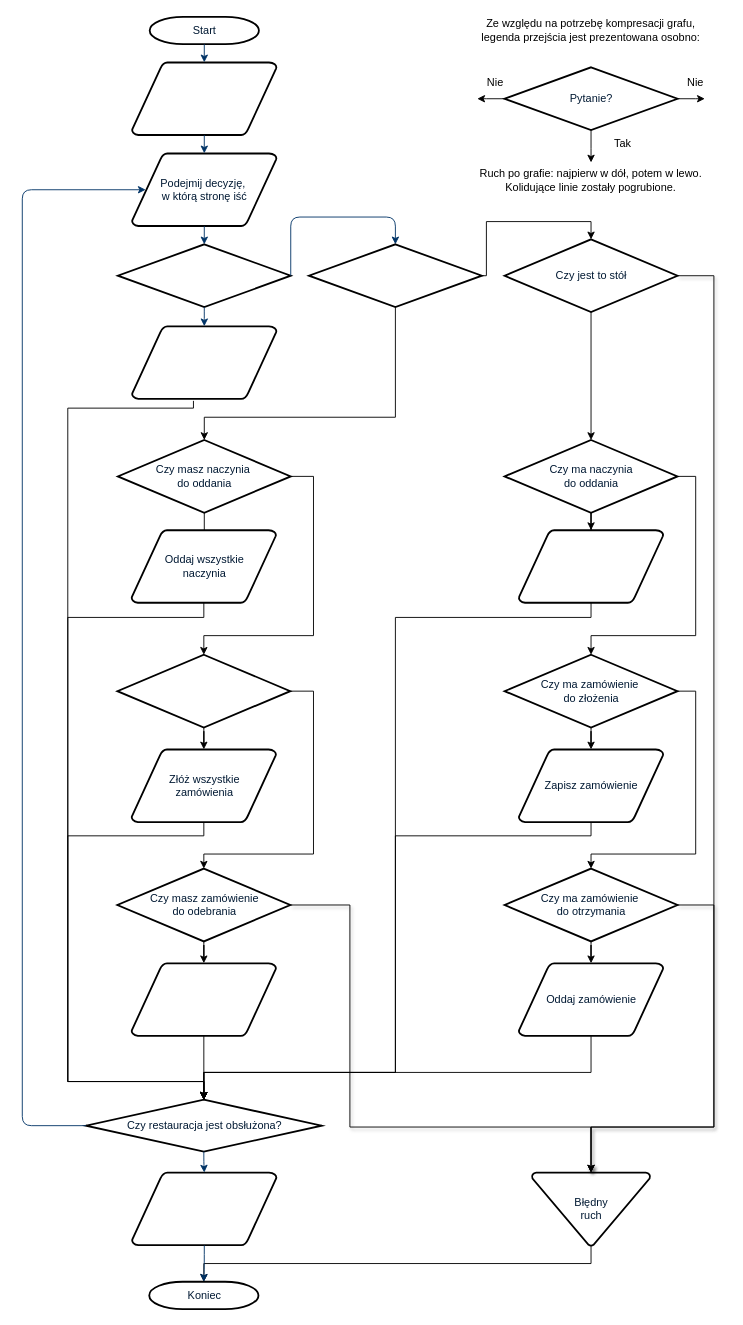
The diagram is 743 pixels wide and 1325 high, and some of its shapes have lost their labels. Here are the shapes that lost their labels. From the top down, the centre of each, then its label:
At point (204, 98): "Wygeneruj restaurację".
At point (203, 275): "Czy jest to puste pole".
At point (395, 275): "Czy jest to kuchnia".
At point (204, 362): "Przejdź na nowe pole".
At point (590, 566): "Zbierz wszystkie naczynia".
At point (203, 690): "Czy masz zamówienie do zlożenia".
At point (203, 999): "Odbierz wszystkie zamówienia".
At point (204, 1208): "Zapisz najlepszą strategię".
